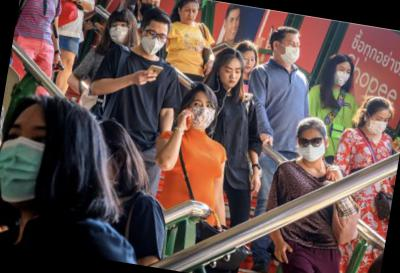with_mask: (185, 97, 219, 133), (295, 133, 328, 165), (138, 26, 169, 60), (278, 37, 304, 67), (365, 113, 392, 138), (107, 20, 131, 46), (333, 64, 354, 90)
without_mask: (218, 64, 245, 90), (179, 4, 200, 26), (241, 54, 258, 75)
